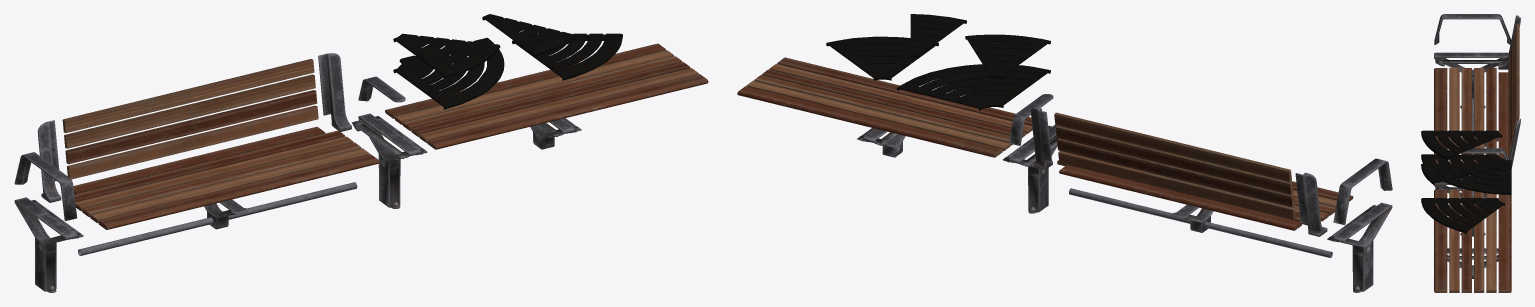
Rendered from modular_street_seating.glb.
3 renders of one model, left to right at view 1: azimuth 30°, elevation 25°; view 2: azimuth 150°, elevation 25°; view 3: azimuth 270°, elevation 25°, orthographic. The views are drawn at different scales.
Visible parts, largest first — view 1: seat_back, seat, seat_bench, connector_90, legs_double, connector_45, legs_single, connector_60, crossbar, connector_30, back_support_l, arm_rest_01 (+4 smaller); view 2: seat_bench, seat_back, connector_90, seat, connector_60, legs_single, connector_45, crossbar, legs_double, connector_30, arm_rest_01, back_support_r (+4 smaller); view 3: seat_bench, seat, connector_90, connector_60, connector_45, seat_back, connector_30, legs_single, arm_rest_01, arm_rest_02, back_support_r, legs_double (+3 smaller).
Part boxes in pixels (box(x1,y1,x2,y2)): seat_back: box(62, 59, 318, 179); seat: box(73, 126, 379, 229); seat_bench: box(385, 43, 708, 149); connector_90: box(393, 37, 504, 109); legs_double: box(351, 113, 427, 208); connector_45: box(393, 33, 500, 78); legs_single: box(14, 197, 83, 292); connector_60: box(512, 33, 622, 80); crossbar: box(78, 182, 357, 255); connector_30: box(482, 14, 577, 56); back_support_l: box(318, 53, 351, 131); arm_rest_01: box(14, 152, 77, 220); seat_bench: box(737, 57, 1032, 157); seat_back: box(1054, 112, 1295, 220); connector_90: box(896, 64, 1050, 110); seat: box(1057, 160, 1353, 230); connector_60: box(826, 36, 938, 80); legs_single: box(1327, 202, 1392, 292); connector_45: box(965, 34, 1050, 78); crossbar: box(1069, 188, 1332, 257); legs_double: box(1002, 125, 1058, 213); connector_30: box(910, 14, 966, 57); arm_rest_01: box(1333, 158, 1392, 224); back_support_r: box(1295, 172, 1327, 236); seat_bench: box(1434, 189, 1511, 292); seat: box(1434, 68, 1508, 163); connector_90: box(1421, 154, 1511, 194); connector_60: box(1421, 198, 1505, 233); connector_45: box(1421, 130, 1502, 160); seat_back: box(1508, 24, 1519, 157); connector_30: box(1421, 163, 1500, 184); legs_single: box(1434, 52, 1508, 108); arm_rest_01: box(1434, 14, 1511, 44); arm_rest_02: box(1460, 148, 1508, 159); back_support_r: box(1498, 15, 1520, 69); legs_double: box(1434, 181, 1486, 236).
Size of the model in its own units: 4.34 by 0.95 by 0.7704.
Materials: 4 (4 with a texture image).
